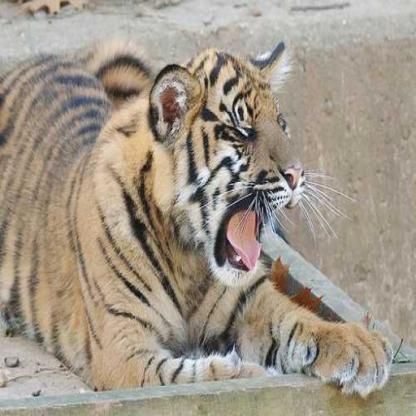Tiger: (0, 29, 398, 396)
